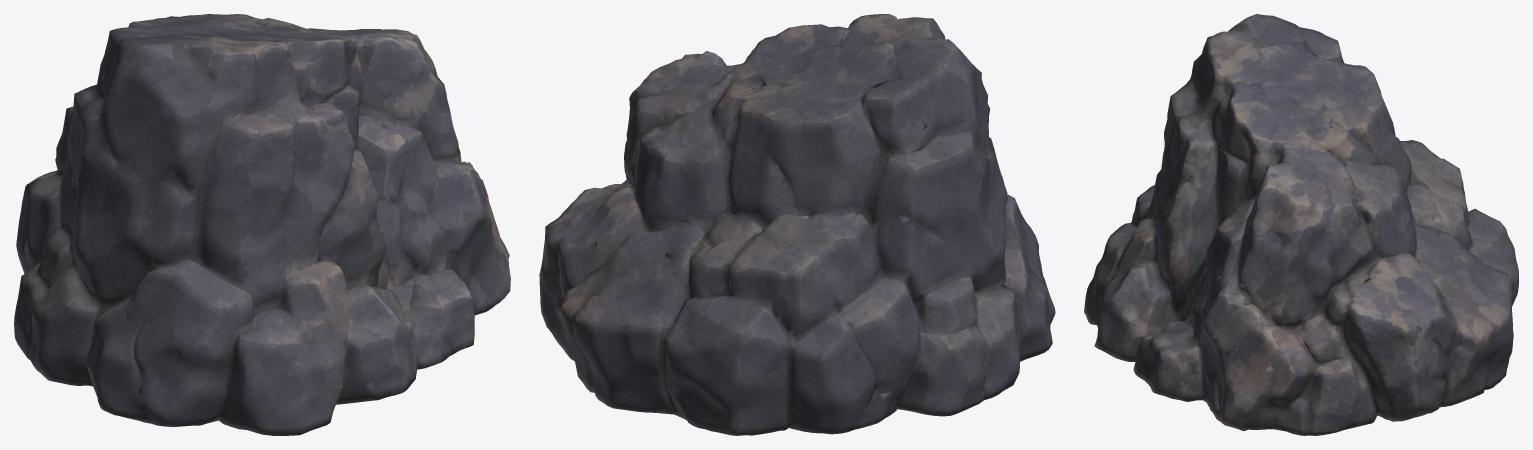
Rendered from pack-rock-pile.glb.
3 views of the same model, side by side, from view 1: azimuth 30°, elevation 25°; view 2: azimuth 150°, elevation 25°; view 3: azimuth 270°, elevation 25° (orthographic). The views are drawn at different scales.
Parts seen in each view (by area): view 1: tripo_node_3f568fc0-0f1f-415b-8f9e-5f1cb5106810; view 2: tripo_node_3f568fc0-0f1f-415b-8f9e-5f1cb5106810; view 3: tripo_node_3f568fc0-0f1f-415b-8f9e-5f1cb5106810.
Part boxes in pixels (left/top/right/bottom): tripo_node_3f568fc0-0f1f-415b-8f9e-5f1cb5106810: left=14, top=14, right=510, bottom=435; tripo_node_3f568fc0-0f1f-415b-8f9e-5f1cb5106810: left=539, top=14, right=1055, bottom=435; tripo_node_3f568fc0-0f1f-415b-8f9e-5f1cb5106810: left=1084, top=14, right=1518, bottom=435.
Size of the model in its own units: 0.9782 by 0.6834 by 0.9705.
1 material, 1 textured.
